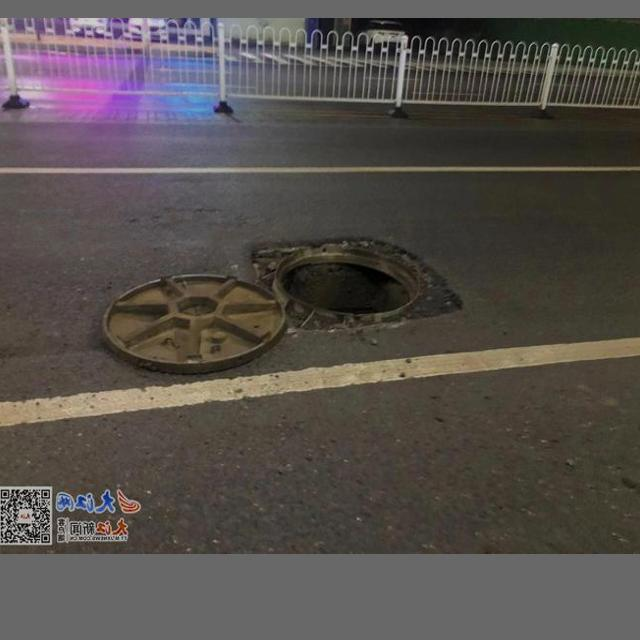uncovered: (90, 217, 471, 396)
